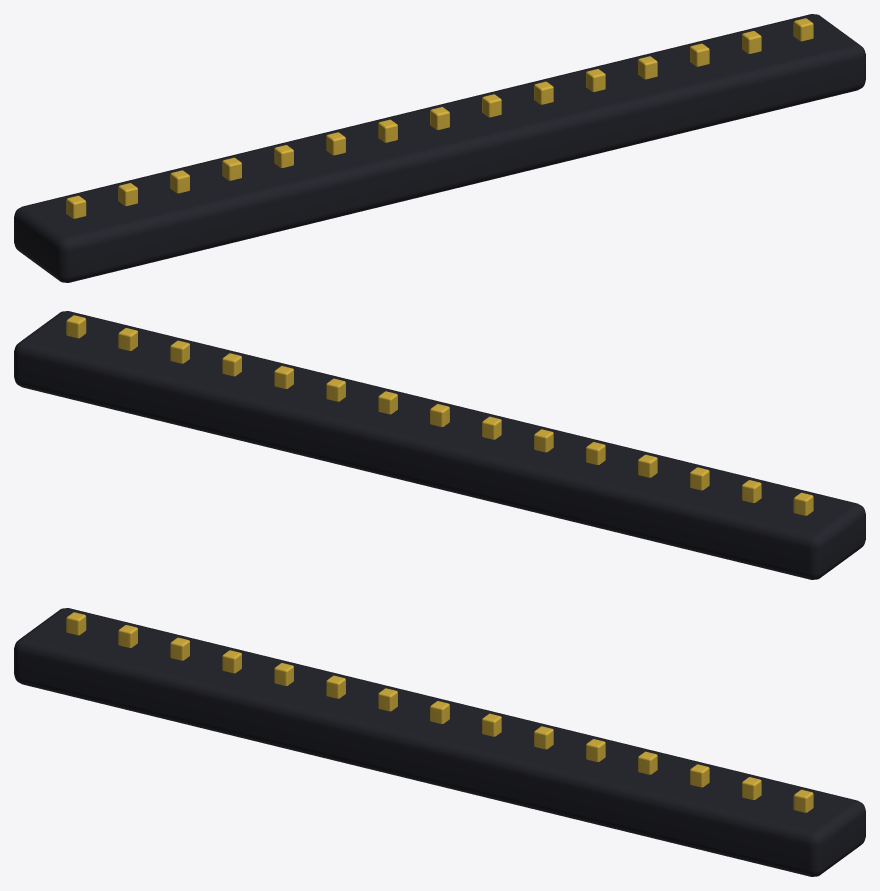
3 renders of one model, top to bottom at view 1: azimuth 30°, elevation 25°; view 2: azimuth 150°, elevation 25°; view 3: azimuth 330°, elevation 25°, orthographic.
Parts seen in each view (by area): view 1: part_010; view 2: part_010; view 3: part_010.
Part boxes in pixels (x1,y1,x2,y2): part_010: [14, 14, 865, 282]; part_010: [14, 311, 865, 579]; part_010: [14, 608, 865, 876].
Size of the model in its own units: 0.9 by 0.0645 by 0.1.
